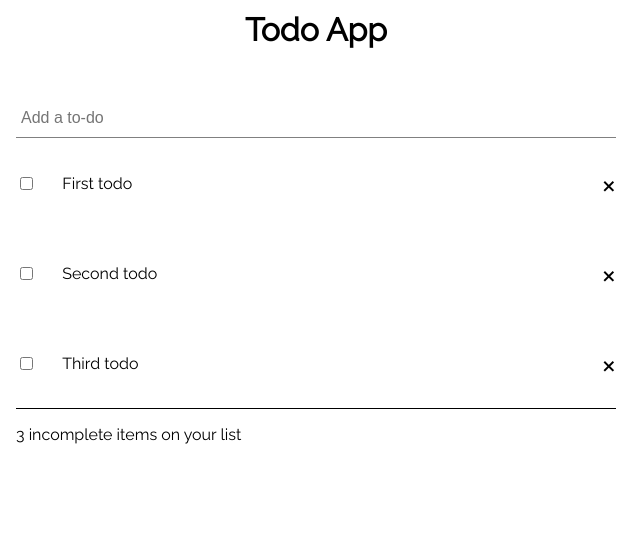
ng Todo App › Todo interactions › Should create a new Todo
In the field with class "todo-input": point(316, 118) [16,98,616,138], type "New todo"
Then press Enter
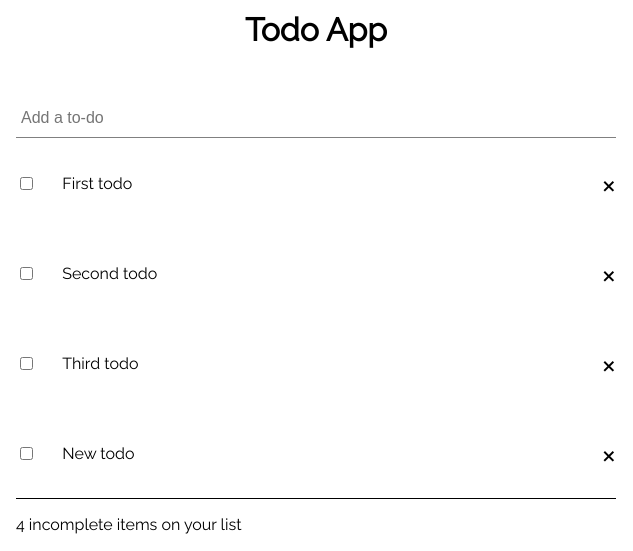
Expected: the number of elements with class "todo-item-left" is 4, [20,174,132,192]; [20,264,157,282]; [20,354,138,372]; [20,444,134,462]
